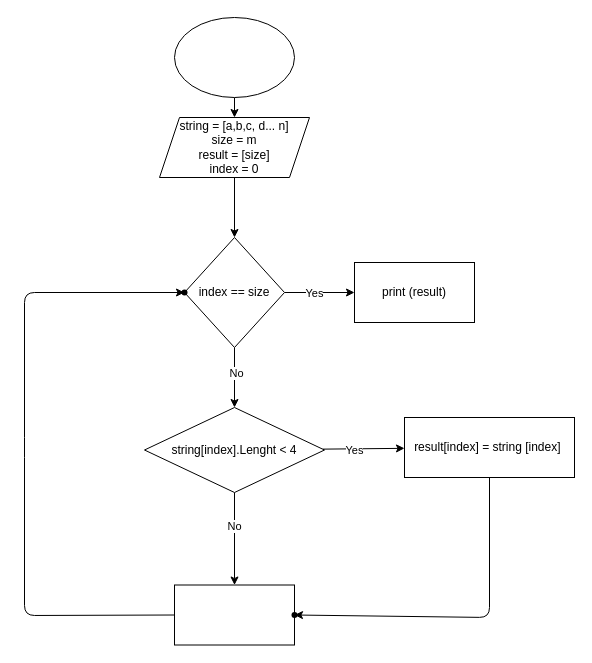
Some shapes in this 592 by 663 pixel diagram are drawn without their labels. The shapes that lost their labels are listed below. From the top down, each one's box as (x1, y1, x2, y2) in pixels, then its label:
(174, 16, 294, 98): Start
(174, 584, 294, 645): index = index +1
